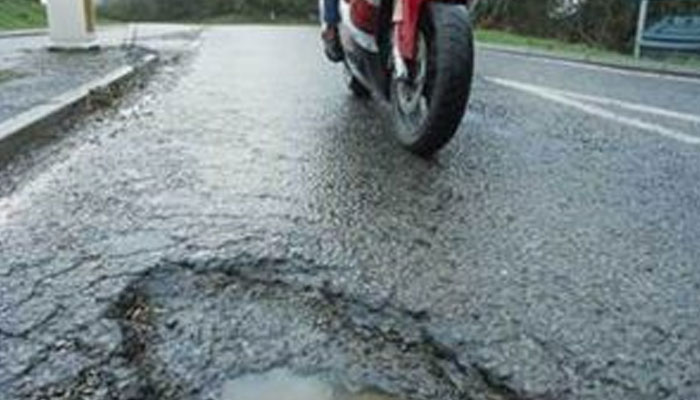pothole: (84, 244, 407, 399)
